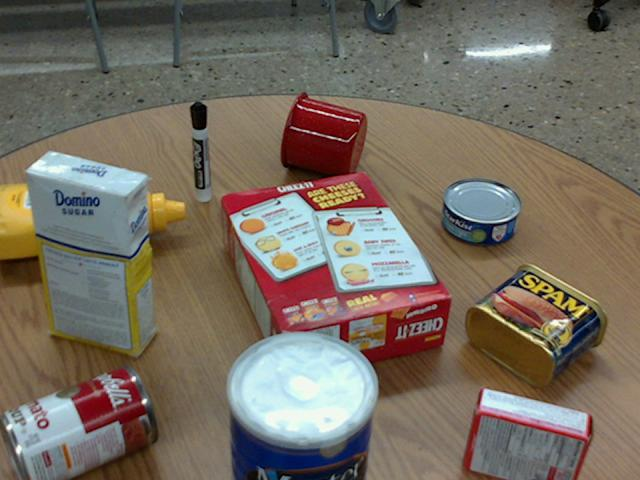cracker_box: (218, 172, 450, 377)
gelatin_box: (463, 386, 591, 479)
large_marker: (189, 102, 209, 201)
master_chef_can: (224, 332, 374, 479)
mug: (280, 92, 366, 178)
mustard_bottle: (0, 181, 183, 259)
potted_meat_can: (466, 262, 607, 386)
sugar_box: (25, 151, 152, 357)
tomato_soup_can: (0, 364, 157, 479)
tuna_fish_can: (441, 178, 521, 244)
